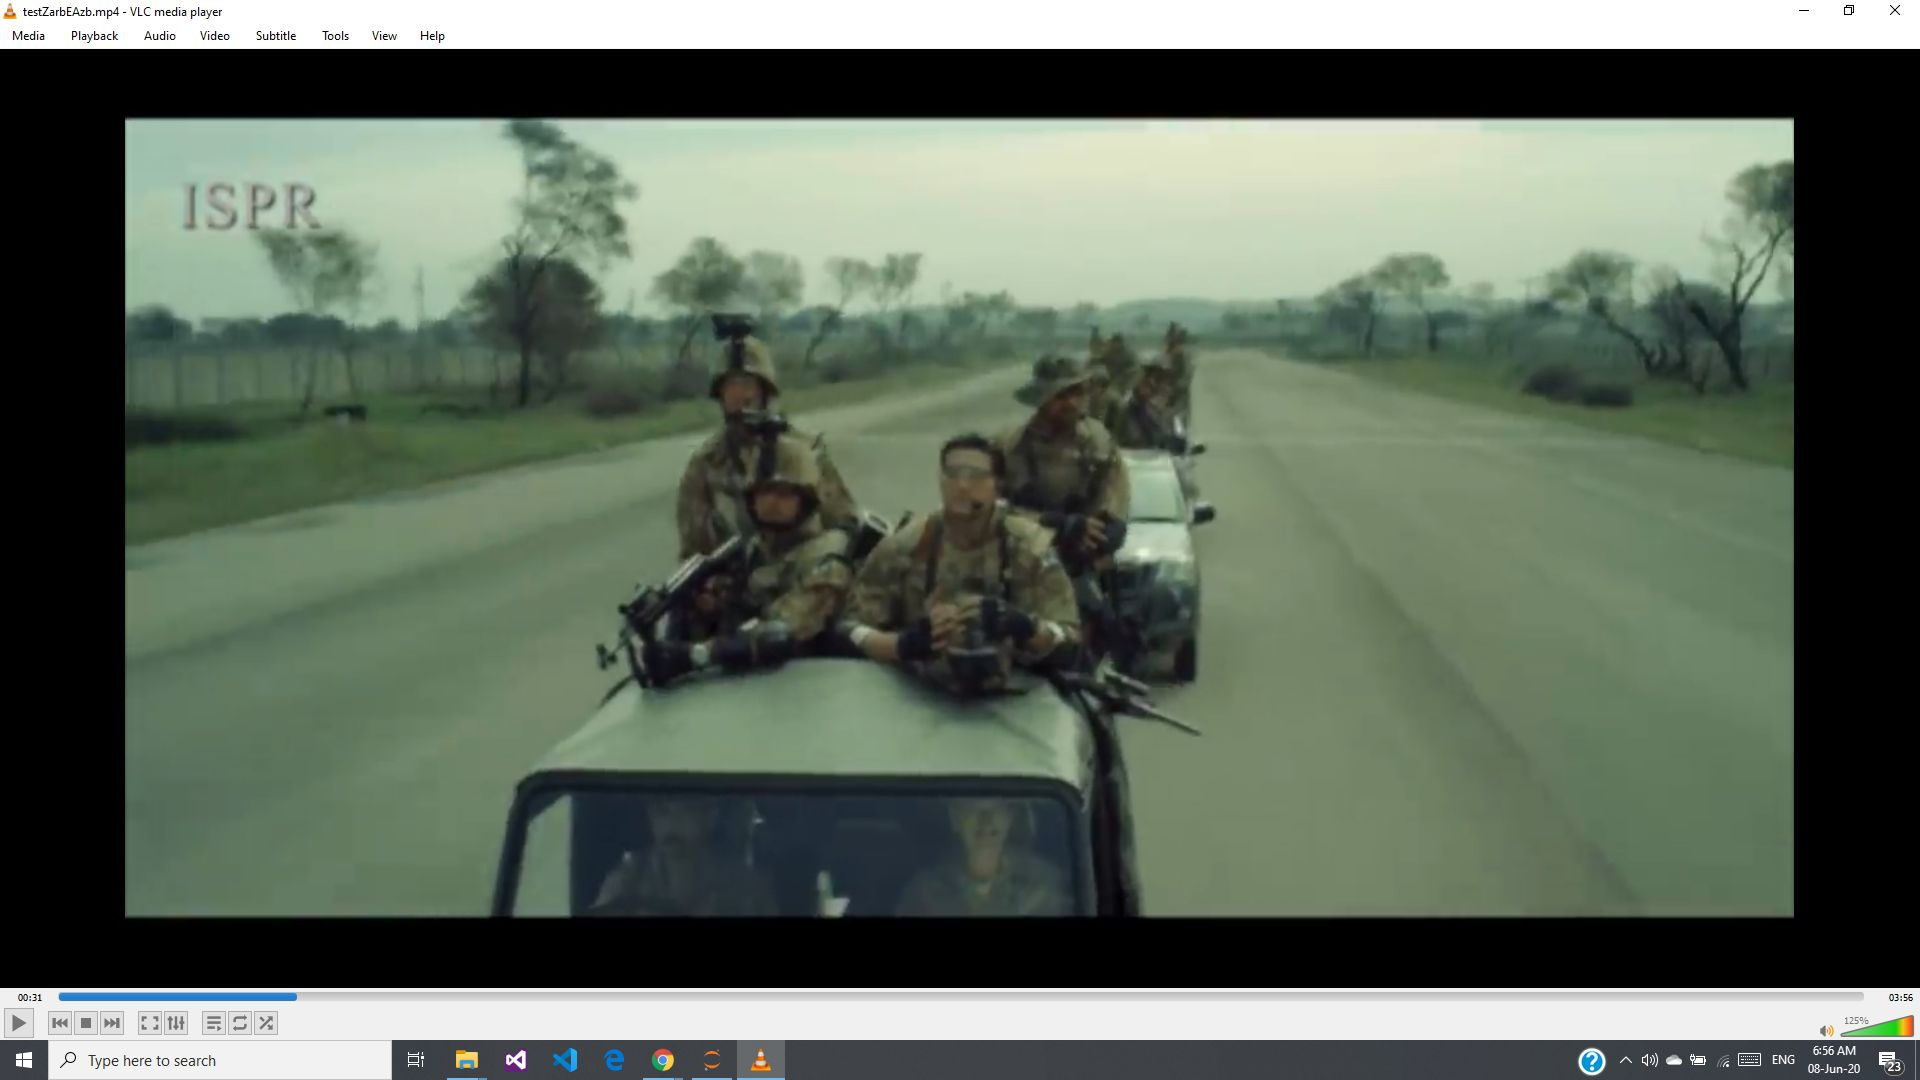uniform: (858, 433, 1073, 837), (654, 434, 857, 833), (624, 265, 785, 651), (993, 355, 1130, 703)
